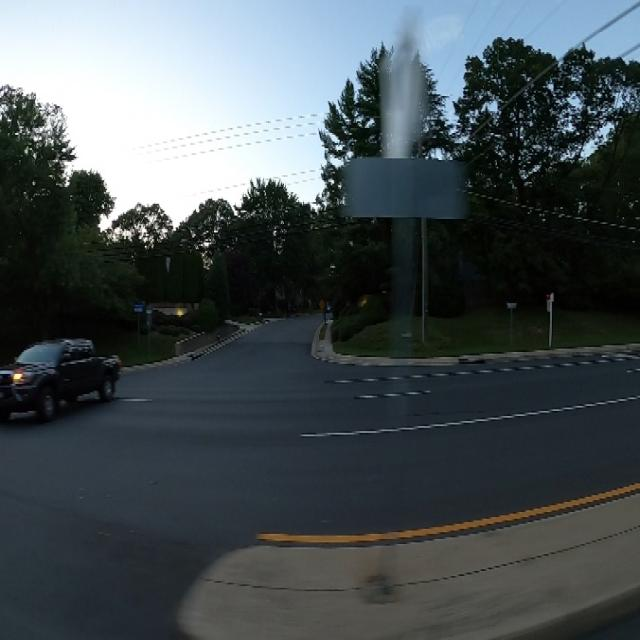Jeep: (0, 337, 126, 419)
